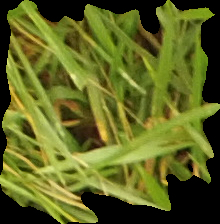grass: (1, 1, 218, 222)
